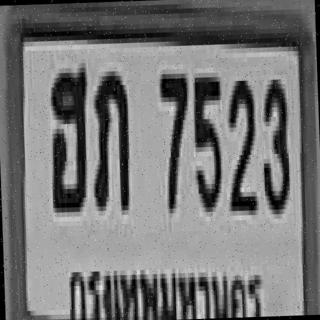A32: (88, 66, 130, 212)
A44: (46, 63, 90, 214)
N02: (225, 77, 256, 212)
N03: (259, 74, 292, 214)
N05: (192, 72, 223, 208)
N07: (158, 70, 191, 210)
